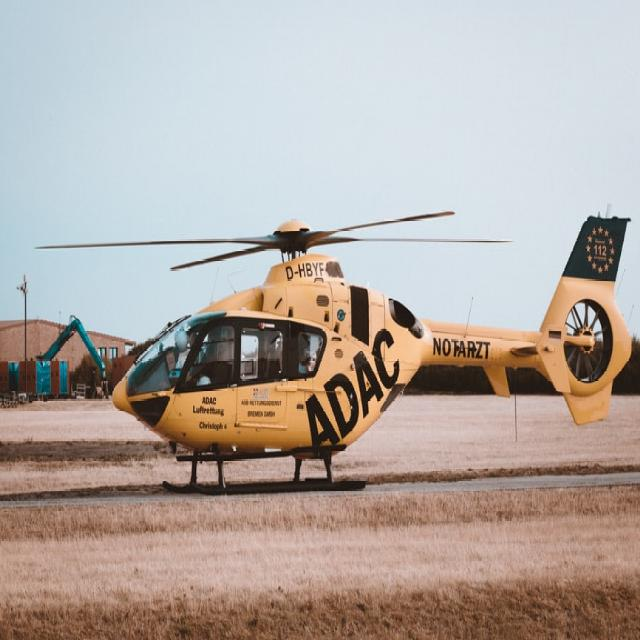helicopter: (35, 210, 634, 495)
